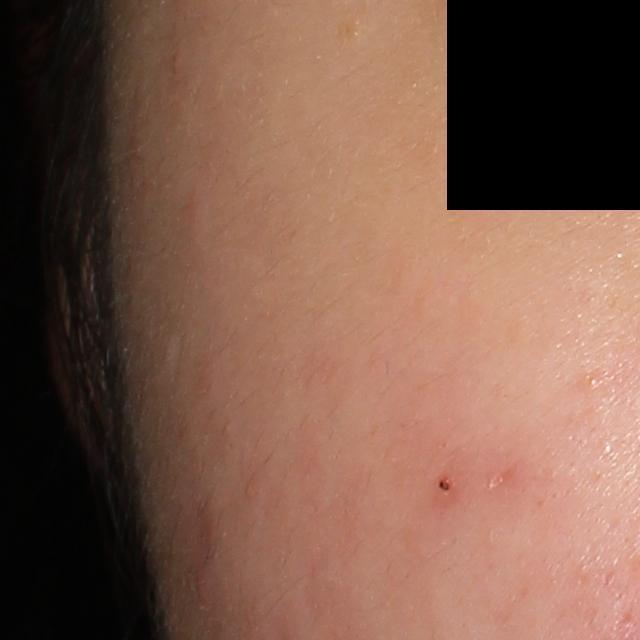comedo: (582, 367, 599, 387)
other: (438, 477, 451, 493)
